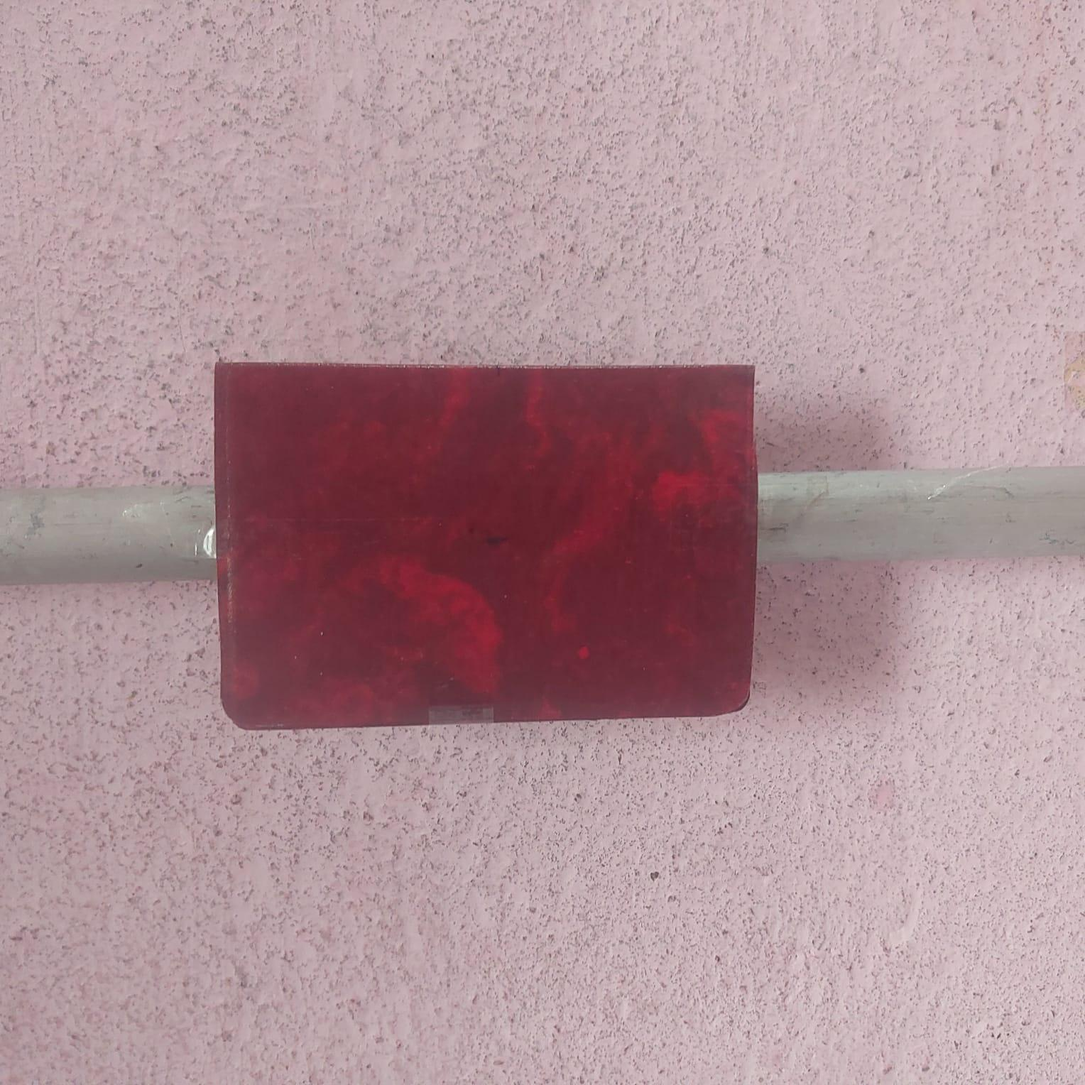wallet: (216, 365, 765, 718)
